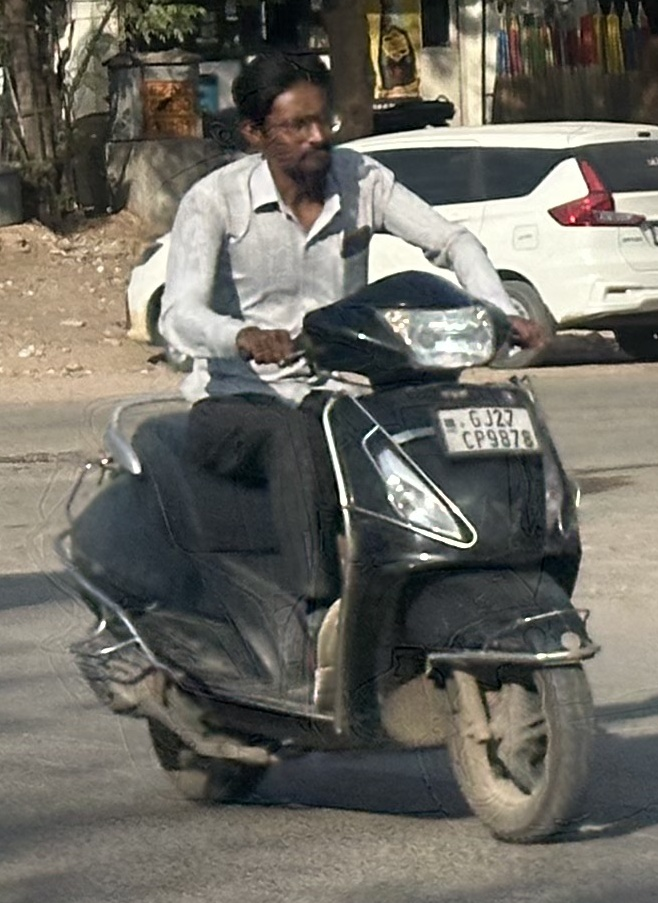BikeWithRider: (37, 52, 618, 853)
NoHelmet: (227, 51, 352, 187)
